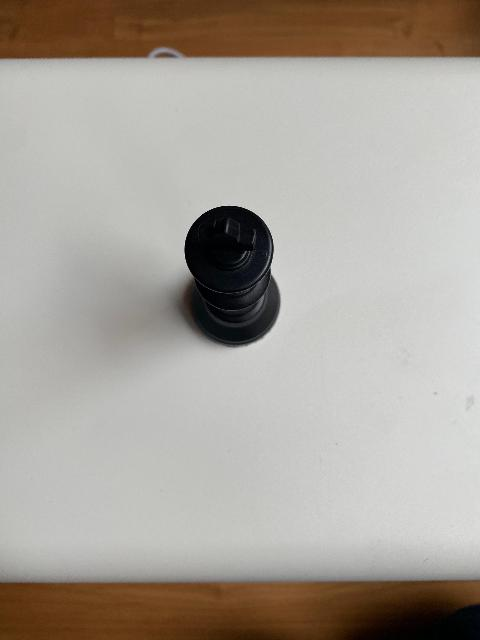black-king: (183, 204, 281, 346)
